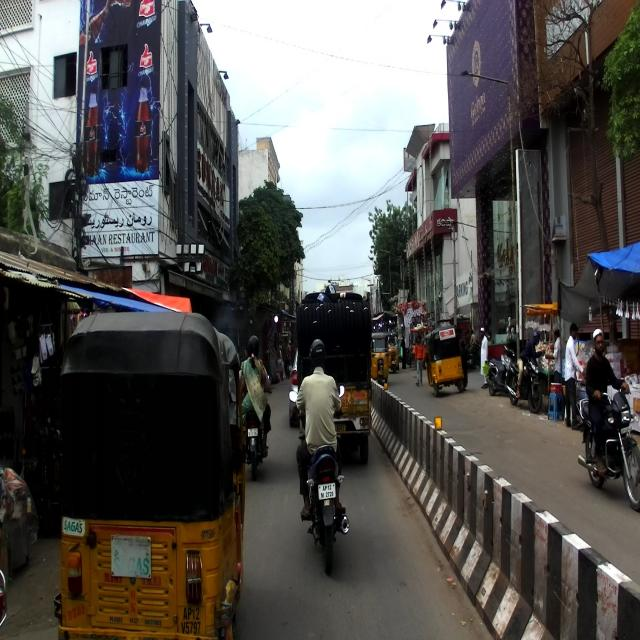autorickshaw: (52, 314, 256, 639)
motorcycle_Hero: (288, 384, 349, 575), (576, 385, 640, 511)
truck: (291, 296, 374, 468)
